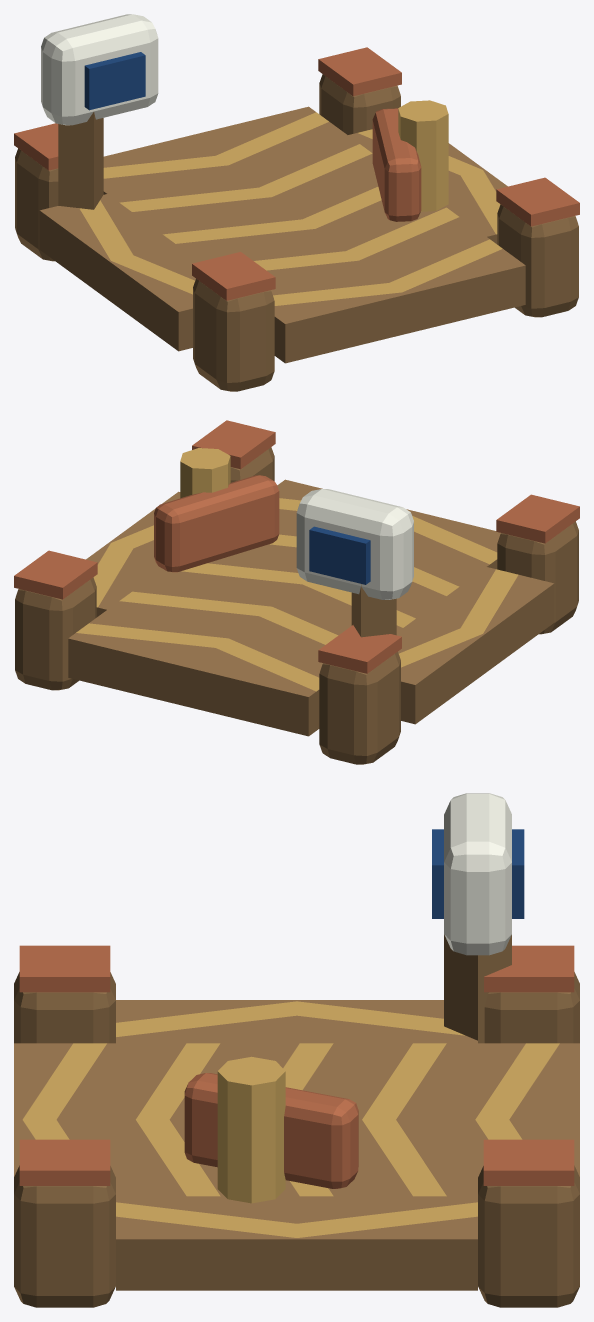
File: sorter.glb
3 renders of one model, top to bottom at view 1: azimuth 30°, elevation 25°; view 2: azimuth 150°, elevation 25°; view 3: azimuth 270°, elevation 25°, orthographic. The views are drawn at different scales.
Parts seen in each view (by area): view 1: Deck_flush_forward_chevron, Deck_flush_branch_chevron, Deck_flush_forward_chevron.003, Deck_flush_forward_chevron.004, Deck_flush_forward_chevron.002, Sorter_ceramic_sign, Deck_flush_forward_chevron.001, Timber_corner_guide, Timber_corner_guide.002, Sorter_copper_diverter, Sorter_gate_hinge, Sorter_sign_post (+8 smaller); view 2: Deck_flush_forward_chevron.004, Deck_flush_branch_chevron, Sorter_copper_diverter, Deck_flush_forward_chevron.003, Sorter_ceramic_sign, Timber_corner_guide.001, Deck_flush_forward_chevron.002, Timber_corner_guide.003, Deck_flush_forward_chevron, Timber_corner_guide, Deck_flush_branch_chevron.001, Deck_flush_forward_chevron.001 (+8 smaller); view 3: Deck_flush_branch_chevron.001, Deck_flush_forward_chevron.003, Deck_flush_branch_chevron, Timber_corner_guide.002, Timber_corner_guide.003, Deck_flush_forward_chevron, Deck_flush_forward_chevron.004, Deck_flush_forward_chevron.001, Sorter_ceramic_sign, Sorter_copper_diverter, Sorter_gate_hinge, Timber_corner_guide (+9 smaller).
Part boxes in pixels (box(x1,y1,x2,y2)): Deck_flush_forward_chevron: box(271, 233, 525, 363); Deck_flush_branch_chevron: box(39, 194, 199, 351); Deck_flush_forward_chevron.003: box(112, 138, 375, 228); Deck_flush_forward_chevron.004: box(103, 106, 351, 196); Deck_flush_forward_chevron.002: box(155, 175, 385, 260); Sorter_ceramic_sign: box(41, 14, 158, 125); Deck_flush_forward_chevron.001: box(199, 206, 481, 283); Timber_corner_guide: box(193, 279, 274, 391); Timber_corner_guide.002: box(497, 204, 578, 317); Sorter_copper_diverter: box(372, 108, 421, 221); Sorter_gate_hinge: box(398, 100, 448, 211); Sorter_sign_post: box(58, 112, 103, 209); Deck_flush_forward_chevron.004: box(68, 606, 322, 736); Deck_flush_branch_chevron: box(396, 567, 554, 724); Sorter_copper_diverter: box(154, 475, 279, 572); Deck_flush_forward_chevron.003: box(112, 575, 351, 656); Sorter_ceramic_sign: box(296, 489, 413, 599); Timber_corner_guide.001: box(319, 652, 400, 764); Deck_flush_forward_chevron.002: box(155, 553, 438, 632); Timber_corner_guide.003: box(15, 577, 96, 690); Deck_flush_forward_chevron: box(277, 479, 500, 569); Timber_corner_guide: box(497, 521, 578, 634); Deck_flush_branch_chevron.001: box(86, 491, 180, 617); Deck_flush_forward_chevron.001: box(240, 520, 481, 601); Deck_flush_branch_chevron.001: box(116, 1196, 477, 1290); Deck_flush_forward_chevron.003: box(353, 1043, 466, 1196); Deck_flush_branch_chevron: box(116, 1000, 477, 1043); Timber_corner_guide.002: box(14, 1165, 115, 1307); Timber_corner_guide.003: box(478, 1165, 579, 1307); Deck_flush_forward_chevron: box(14, 1043, 127, 1196); Deck_flush_forward_chevron.004: box(466, 1043, 579, 1196); Deck_flush_forward_chevron.001: box(127, 1043, 240, 1196); Sorter_ceramic_sign: box(444, 793, 511, 955); Sorter_copper_diverter: box(184, 1073, 358, 1188); Sorter_gate_hinge: box(217, 1056, 285, 1203); Timber_corner_guide: box(14, 972, 115, 1043).
Size of the model in its own units: 1 by 0.59 by 1.
